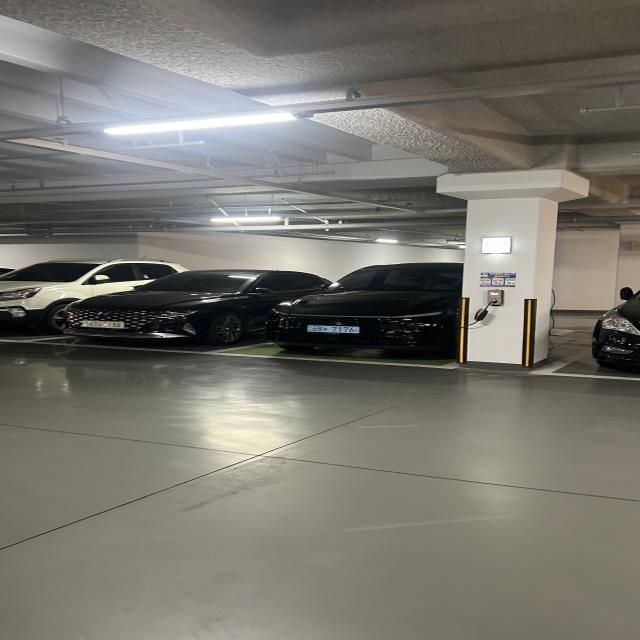car: (304, 323, 365, 337)
carev: (354, 326, 362, 335), (306, 324, 313, 334)
